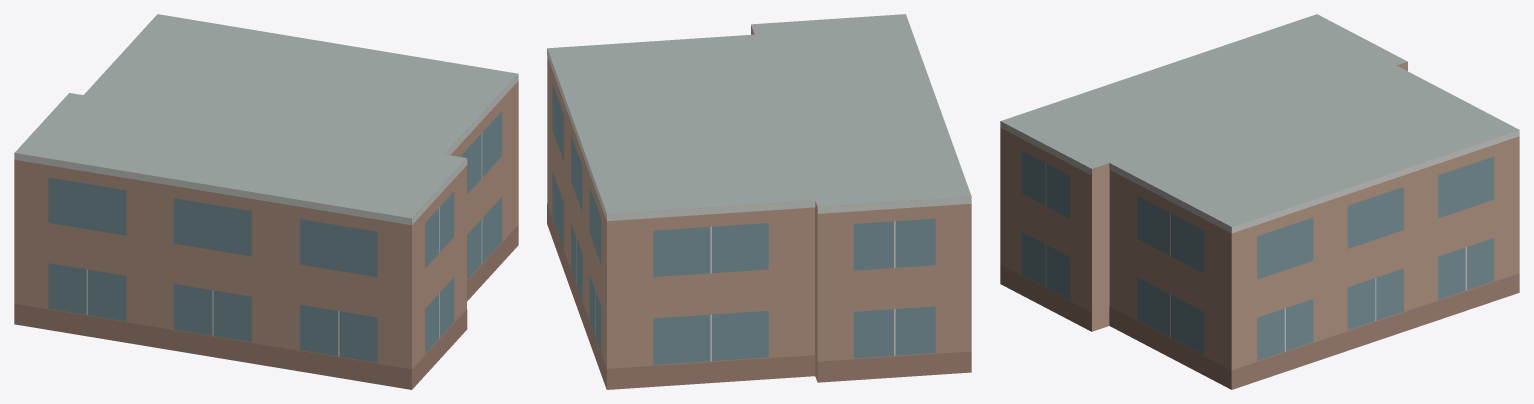
File: survey-upis-32822565.glb
3 renders of one model, left to right at view 1: azimuth 30°, elevation 25°; view 2: azimuth 150°, elevation 25°; view 3: azimuth 270°, elevation 25°, orthographic. The views are drawn at different scales.
Parts seen in each view (by area): view 1: survey-upis-32822565.tmp; view 2: survey-upis-32822565.tmp; view 3: survey-upis-32822565.tmp.
Part boxes in pixels (box(x1,y1,x2,y2)): survey-upis-32822565.tmp: box(14, 14, 518, 389); survey-upis-32822565.tmp: box(547, 14, 971, 389); survey-upis-32822565.tmp: box(1000, 14, 1519, 389).
Bounding box in the file's own units: 17.11 × 6.1 × 17.62.
